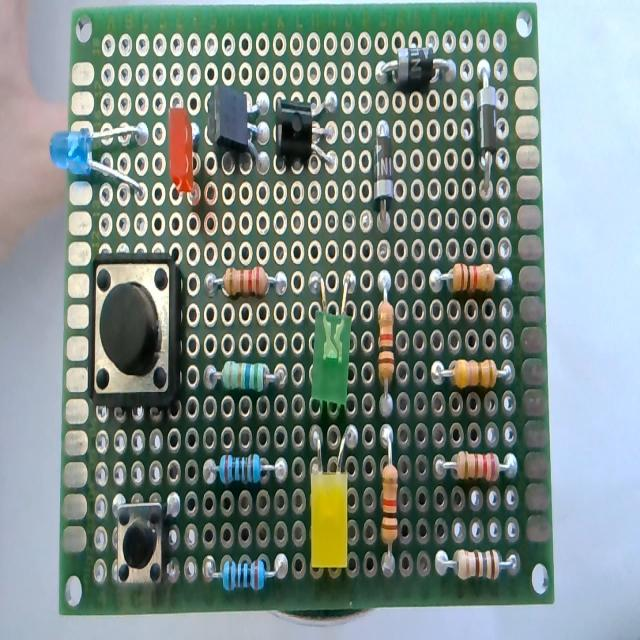diode: (472, 60, 500, 196), (368, 51, 458, 93), (370, 116, 396, 223)
led: (44, 118, 156, 200), (306, 425, 358, 575), (308, 267, 356, 408), (162, 103, 204, 209)
resistor: (377, 424, 405, 585), (434, 545, 524, 591), (435, 448, 521, 494), (203, 549, 290, 592), (204, 446, 292, 486), (376, 269, 400, 415), (206, 263, 288, 305), (204, 354, 288, 394), (433, 356, 513, 396), (430, 260, 516, 292)
switch: (90, 247, 184, 411), (113, 498, 167, 589)
transistor: (206, 68, 262, 175), (272, 89, 338, 173)
